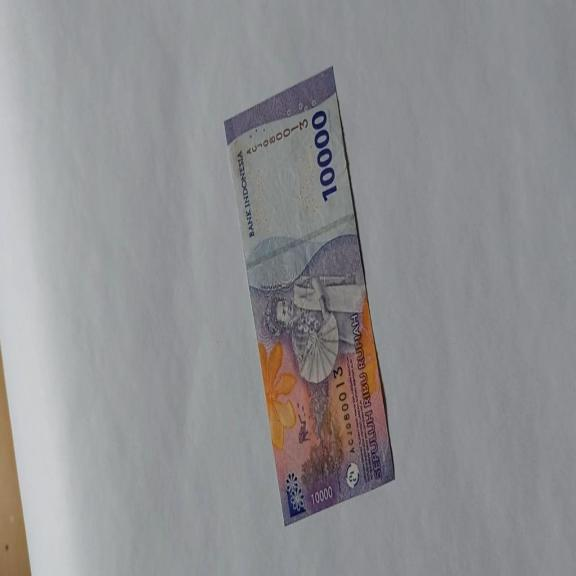Kertas: (223, 64, 396, 526)
